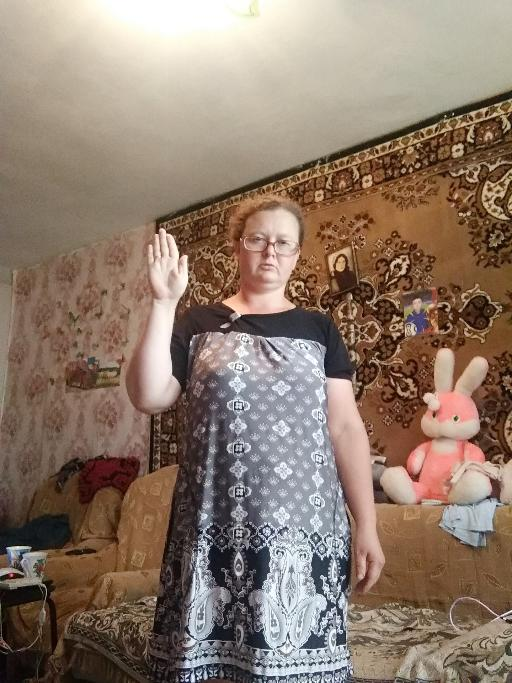no_gesture: (349, 524, 386, 596)
stop: (144, 226, 191, 303)
